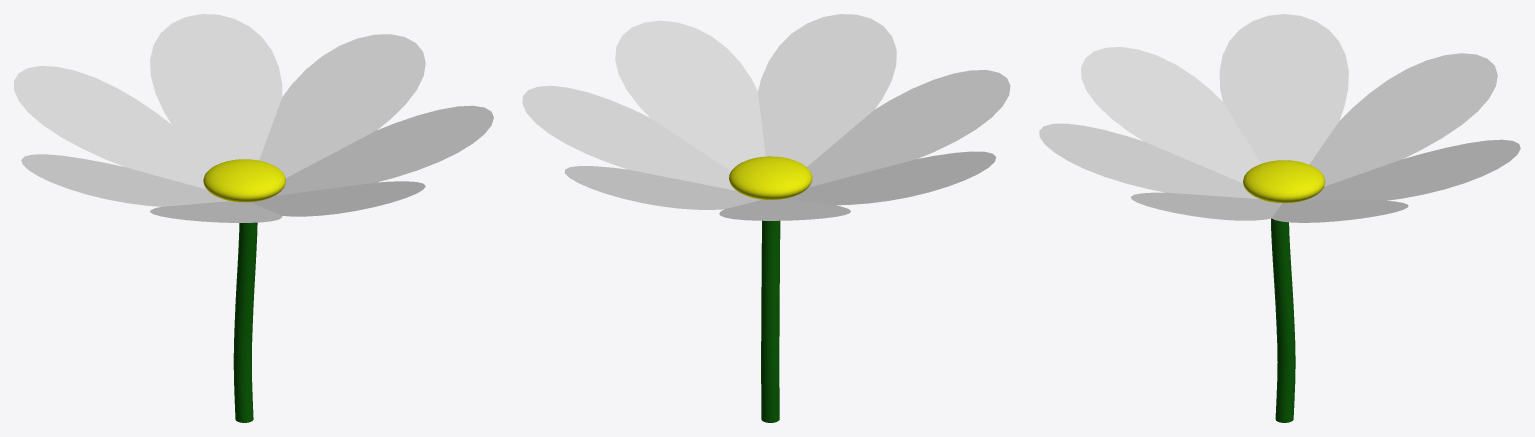
The model's file is FLOWER_1.fbx.
3 views of the same model, side by side, from view 1: azimuth 30°, elevation 25°; view 2: azimuth 150°, elevation 25°; view 3: azimuth 270°, elevation 25° (orthographic).
Visible parts, largest first — view 1: FLOWER; view 2: FLOWER; view 3: FLOWER.
Boxes of the visible parts, x1=… form: FLOWER: x1=14, y1=14, x2=493, y2=422; FLOWER: x1=522, y1=14, x2=1010, y2=422; FLOWER: x1=1039, y1=14, x2=1520, y2=422.
Bounding box in the file's own units: 34.86 × 23.82 × 34.62.
